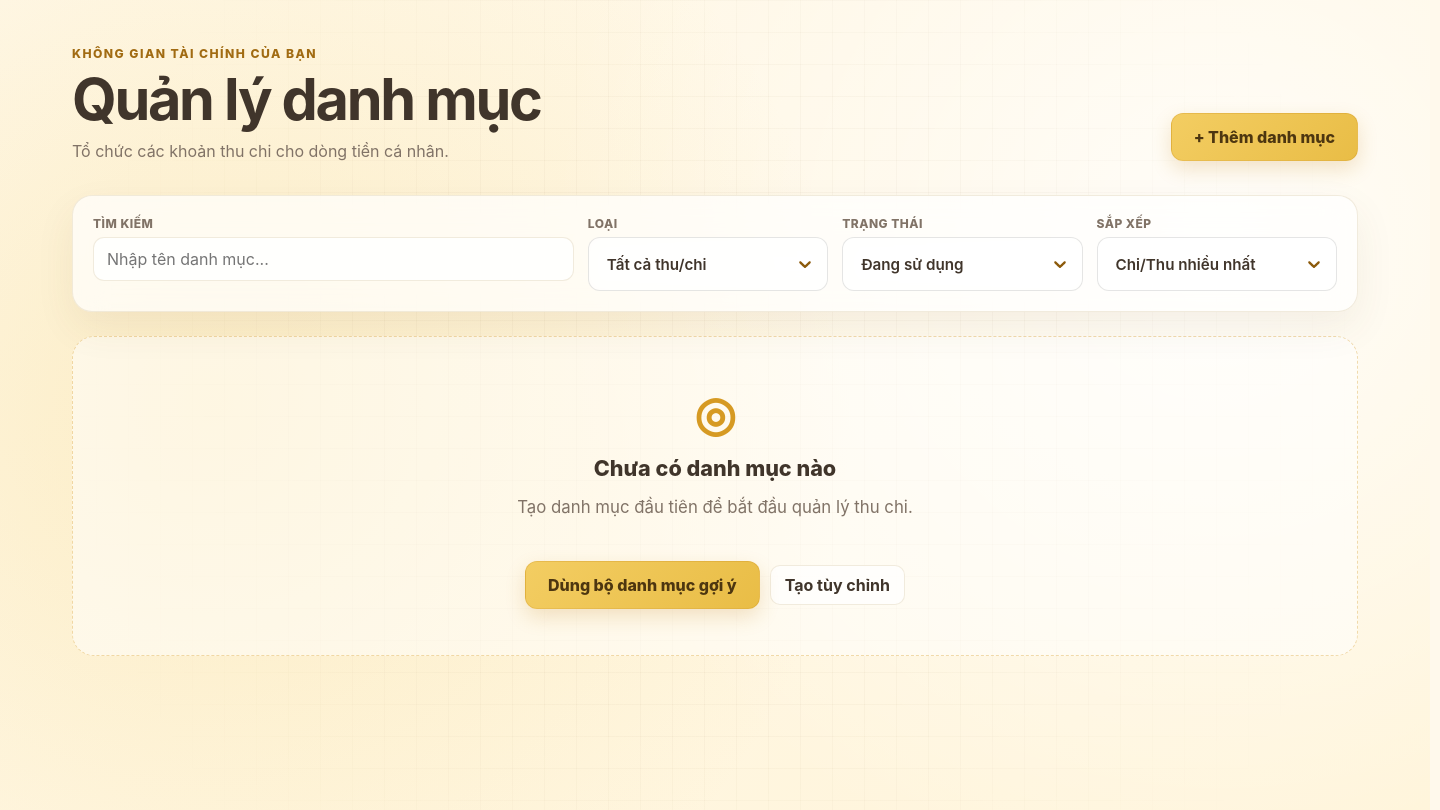
it: Categories page › creates the suggested category set from the empty state
Click the button "Dùng bộ danh mục gợi ý": coordinates (642, 585) left=525, top=561, right=760, bottom=609
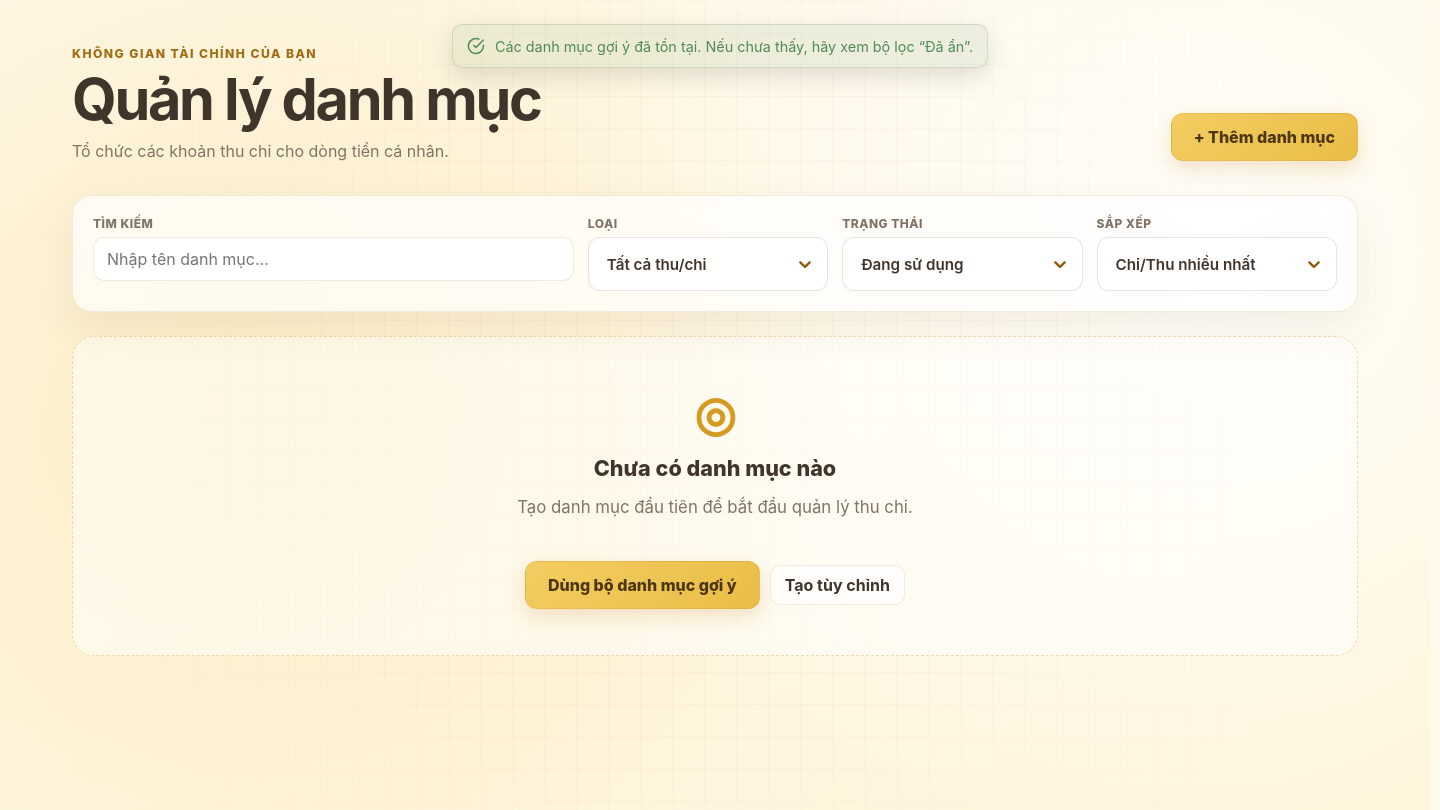
Now the text "Các danh mục gợi ý đã tồn tại. Nếu chưa thấy, hãy xem bộ lọc “Đã ẩn”." is shown, box left=452, top=24, right=988, bottom=68
